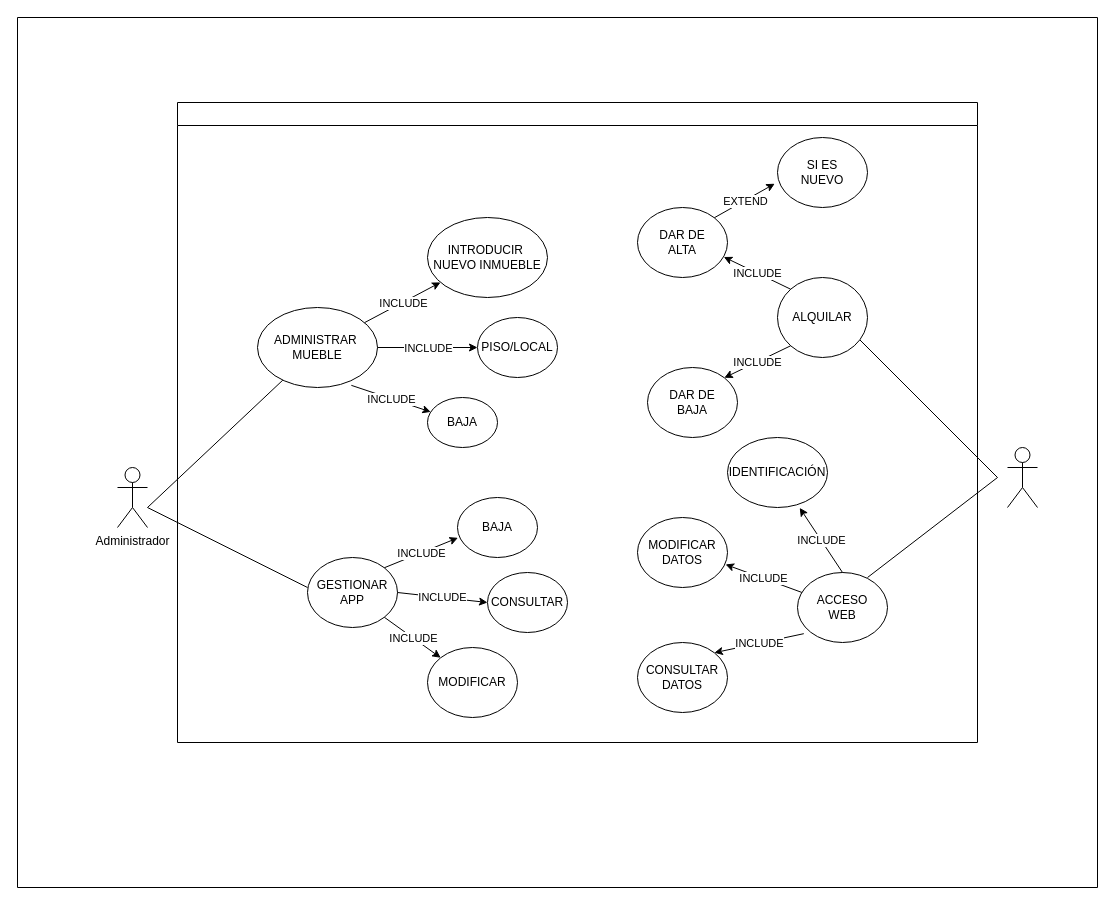
Image size: 1115x905. Some labels were removed from this diagram. The shapes that lost their labels are listed below. From the top down, each one's box as (x1, y1, x2, y2) in pixels, then its label:
(176, 102, 978, 742): Sistema de Gestión de Inmuebles
(1006, 446, 1038, 508): Inquilino
